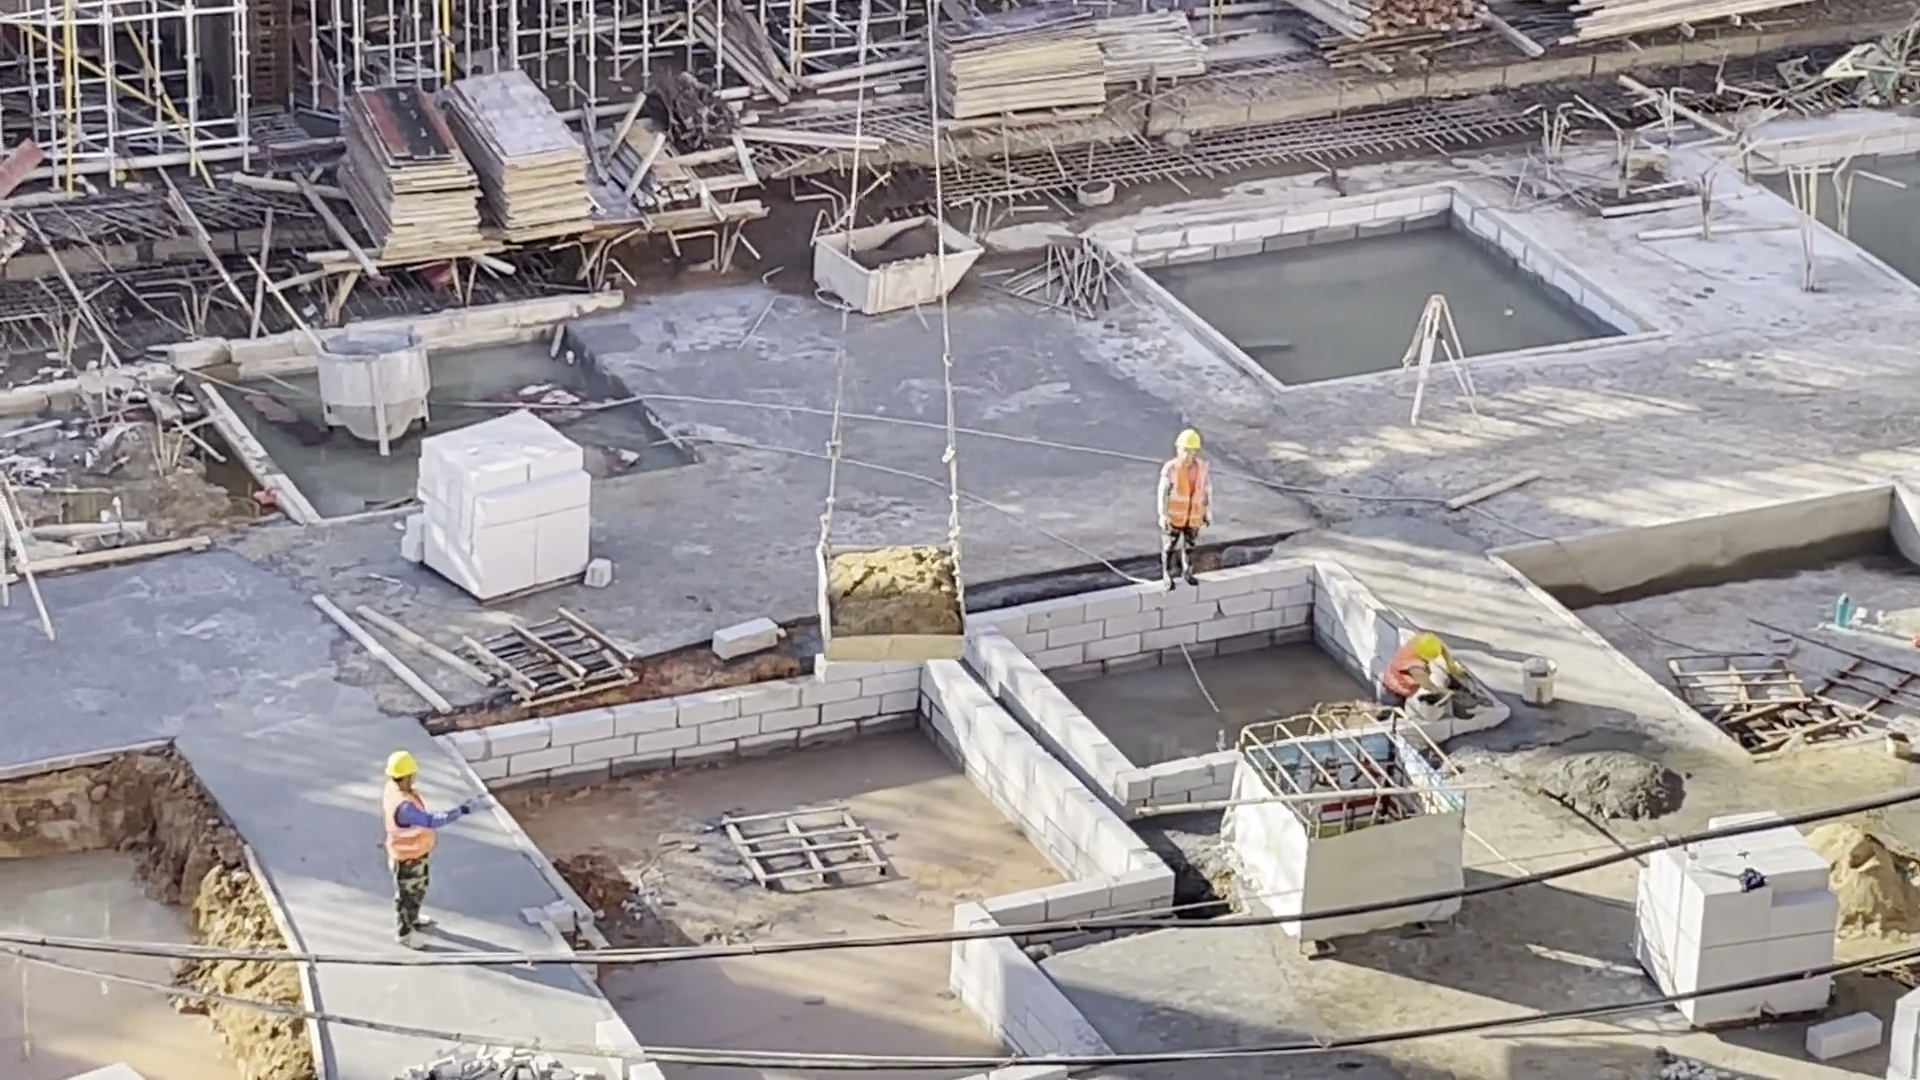board: (438, 69, 606, 249), (330, 78, 485, 260), (914, 5, 1111, 128)
brick: (410, 406, 594, 602), (1628, 857, 1838, 975)
helmet: (380, 749, 420, 778), (1164, 430, 1208, 455), (1412, 630, 1441, 665)
hopper: (802, 524, 984, 663), (799, 198, 988, 322), (310, 319, 439, 456)
person: (369, 749, 488, 956), (1154, 427, 1218, 586), (1373, 628, 1460, 713)
vest: (381, 783, 441, 862), (1163, 457, 1214, 532), (1382, 641, 1431, 697)
wood: (1274, 1, 1514, 43)
